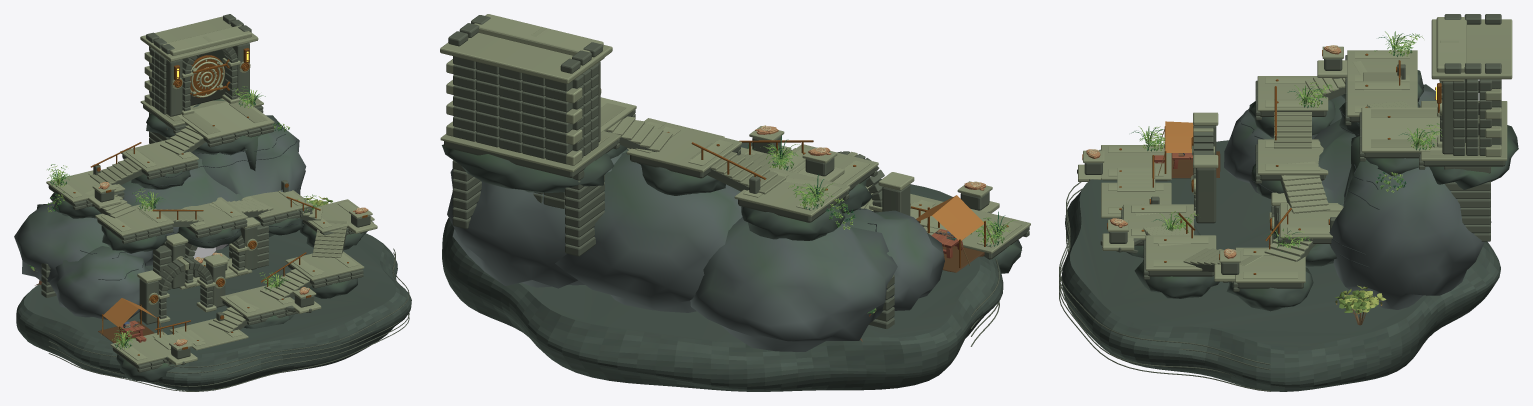
The model's file is viridis.glb.
3 renders of one model, left to right at view 1: azimuth 30°, elevation 25°; view 2: azimuth 150°, elevation 25°; view 3: azimuth 270°, elevation 25°, orthographic. The views are drawn at different scales.
Parts seen in each view (by area): view 1: static_mineral, static_organic, static_metal; view 2: static_mineral, static_organic, static_metal; view 3: static_mineral, static_organic, static_metal.
Boxes of the visible parts, box(x1,y1,x2,y2) form: static_mineral: box(14, 14, 411, 391); static_organic: box(27, 86, 332, 349); static_metal: box(73, 48, 367, 355); static_mineral: box(440, 14, 1030, 391); static_organic: box(747, 135, 1015, 341); static_metal: box(601, 89, 1008, 267); static_mineral: box(1059, 14, 1518, 391); static_organic: box(1131, 31, 1442, 325); static_metal: box(1082, 50, 1441, 274).
Bounding box in the file's own units: 24.03 × 14 × 20.55.
